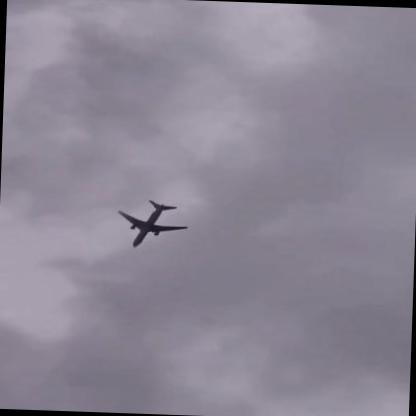plane: (117, 199, 189, 250)
